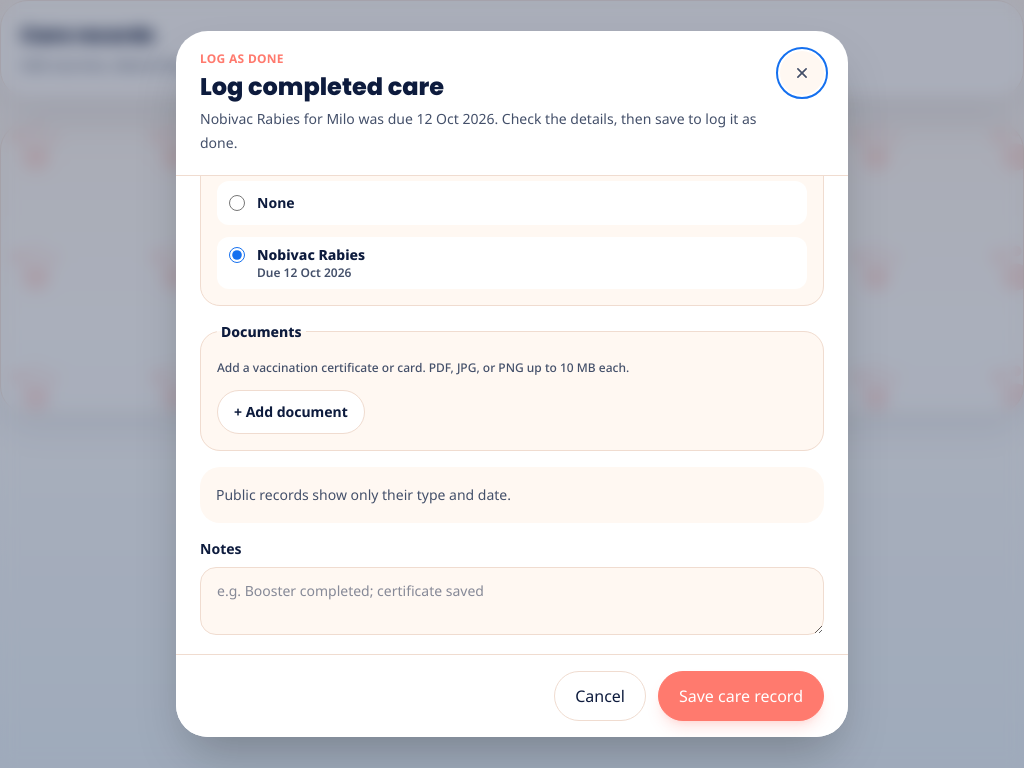
it: A save whose outcome is unknown › after a dropped connection (status 0), closes only for a completing record with exactly these details
(page scrolled)
Type "Booster went well" into the text box labelled "Notes" at (512, 601), box [200,567,824,635]
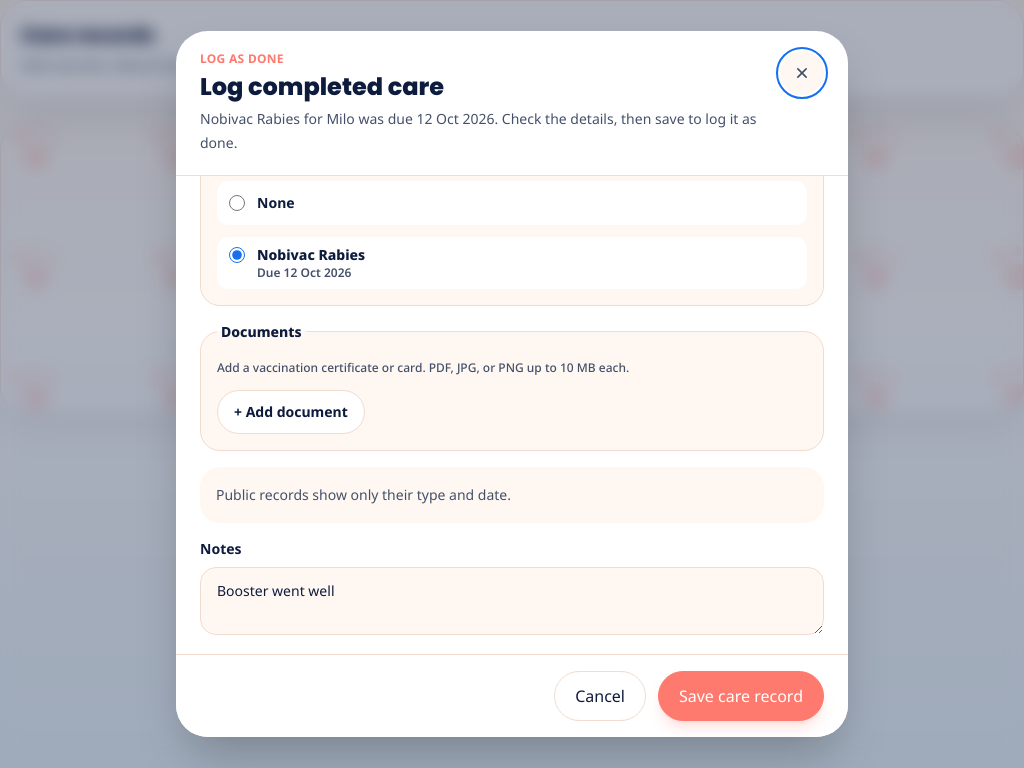
Click the button "Save care record" at (741, 696), box [658,671,824,721]
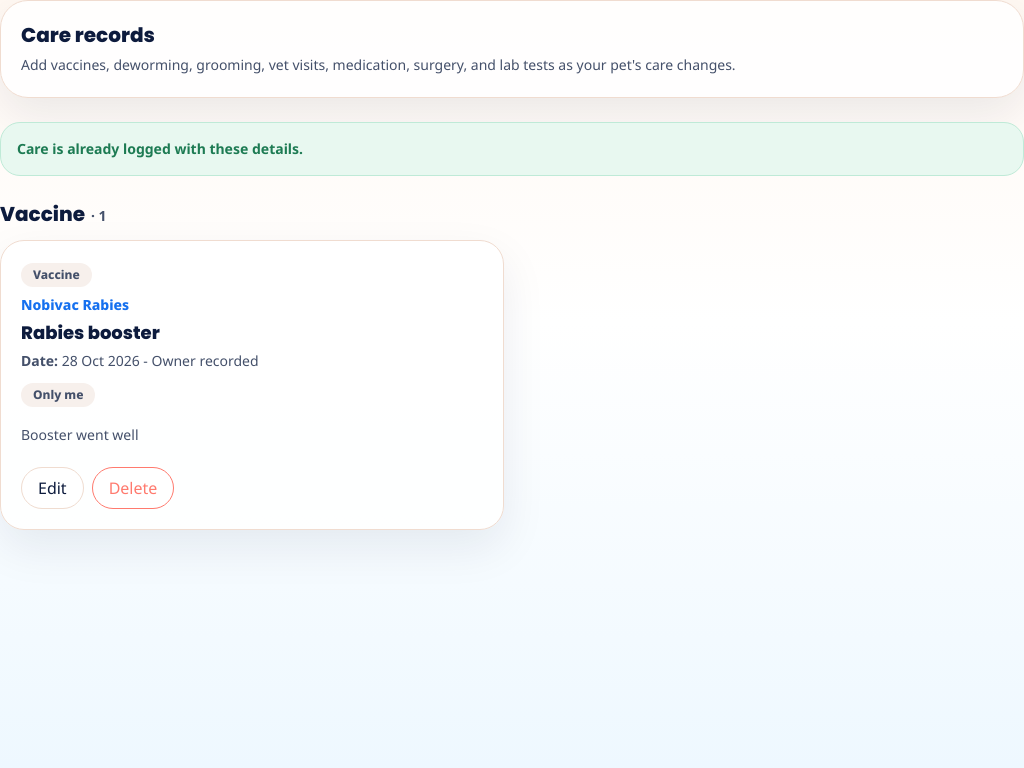
Check: the text "Care is already logged with these details." is shown, box [0,122,1023,176]
Check: the dialog is gone
Check: the text "Booster went well" is shown, box [21,425,138,444]
